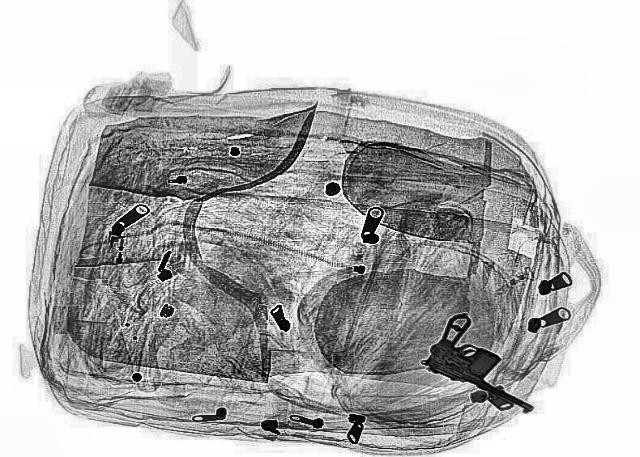Gun: (406, 312, 578, 414)
